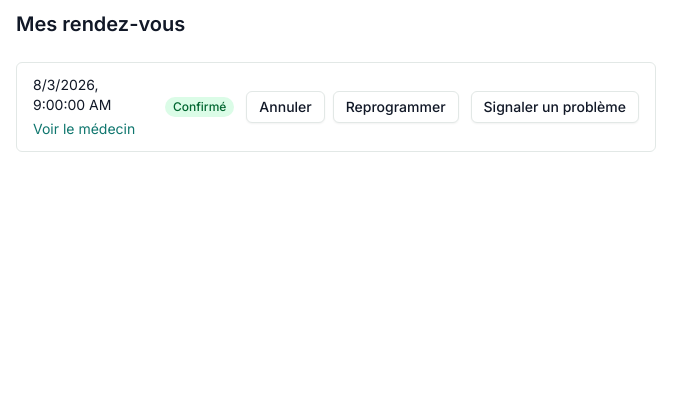
Scenario: MyAppointmentsPage › lets a patient report a problem on a CONFIRMED appointment
Click the button "Signaler un problème": coordinates (555, 107) left=471, top=91, right=639, bottom=123
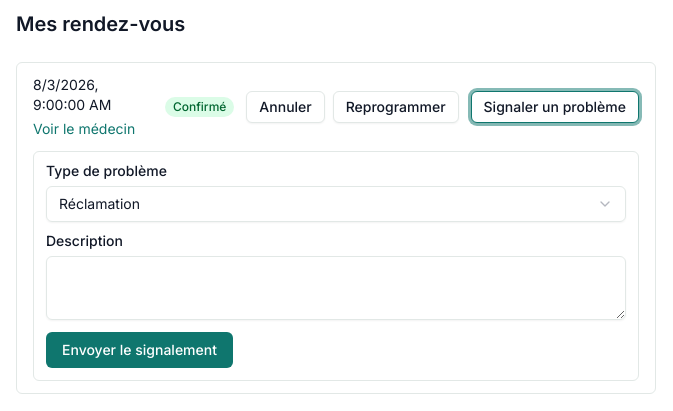
In the text box labelled "Description": coordinates (336, 288) left=46, top=256, right=626, bottom=320, type "Le medecin n'est pas venu."
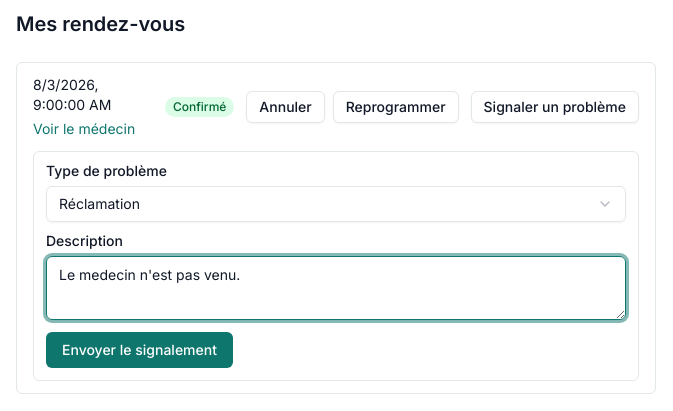
Click the button "Envoyer le signalement": coordinates (140, 350) left=46, top=332, right=233, bottom=368
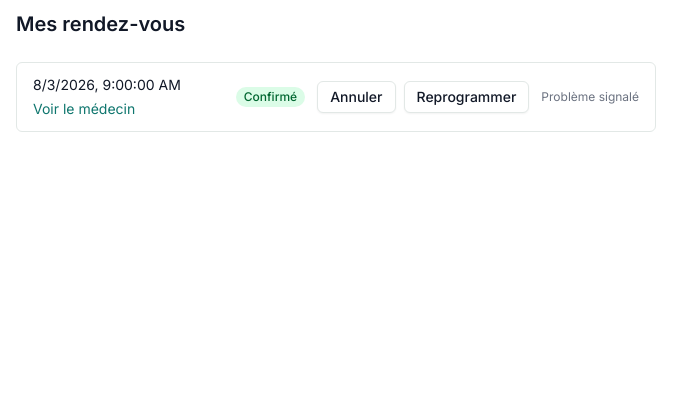
Result: the text "Problème signalé" is shown at left=541, top=89, right=639, bottom=105
Result: the button "Signaler un problème" is gone
